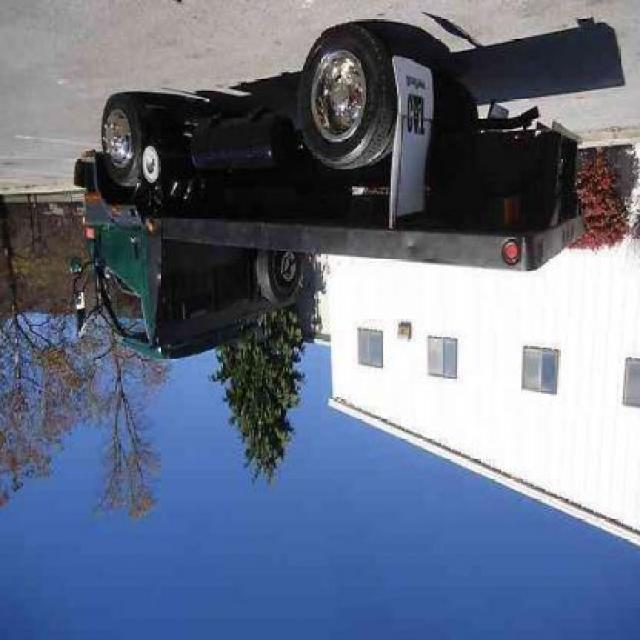truck: (74, 28, 585, 365)
